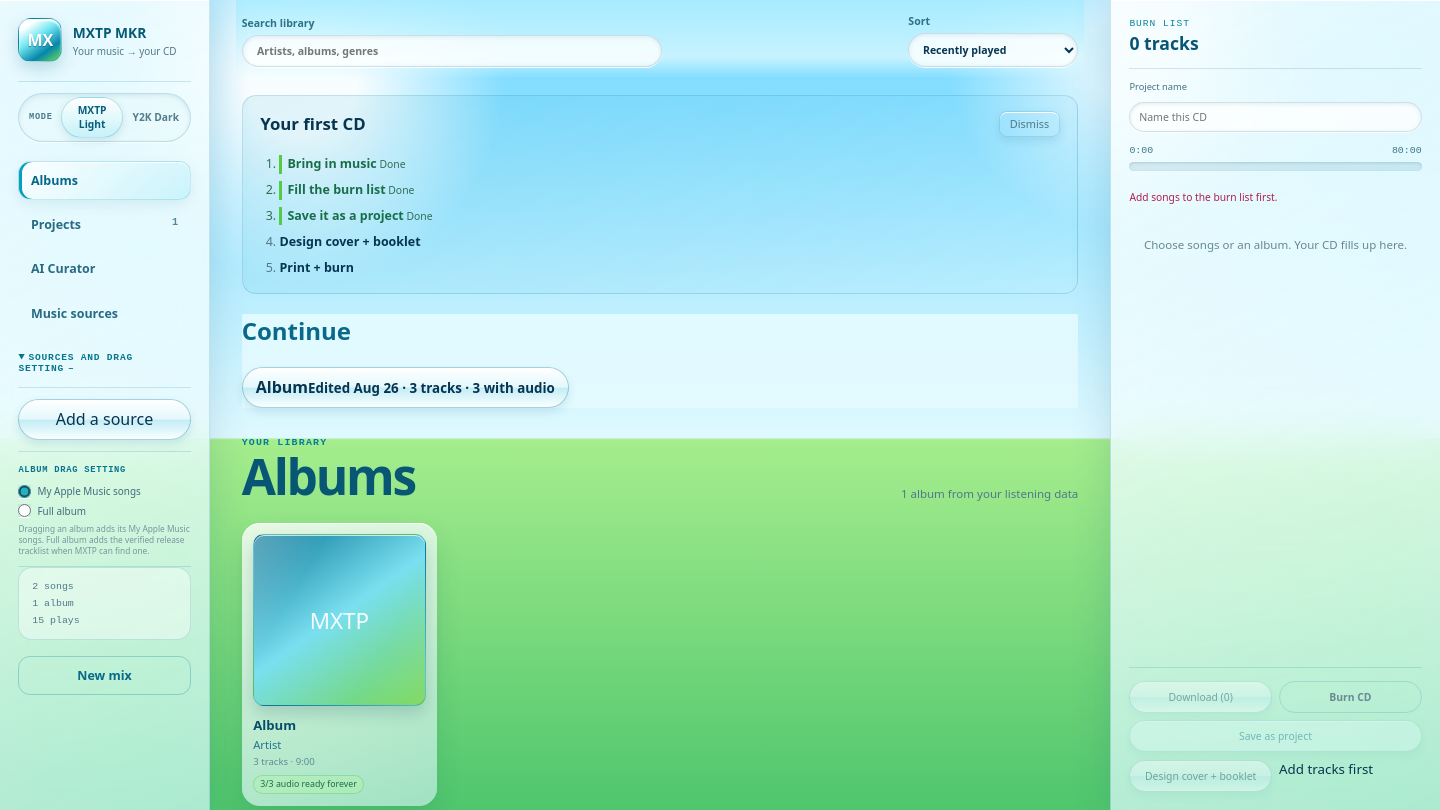
Test: library data safety › marks verified Full album rows ready from the downloaded file positions
Click the button with aria-label "Open Album" at (339, 664), box top-left (242, 522), bottom-right (437, 806)
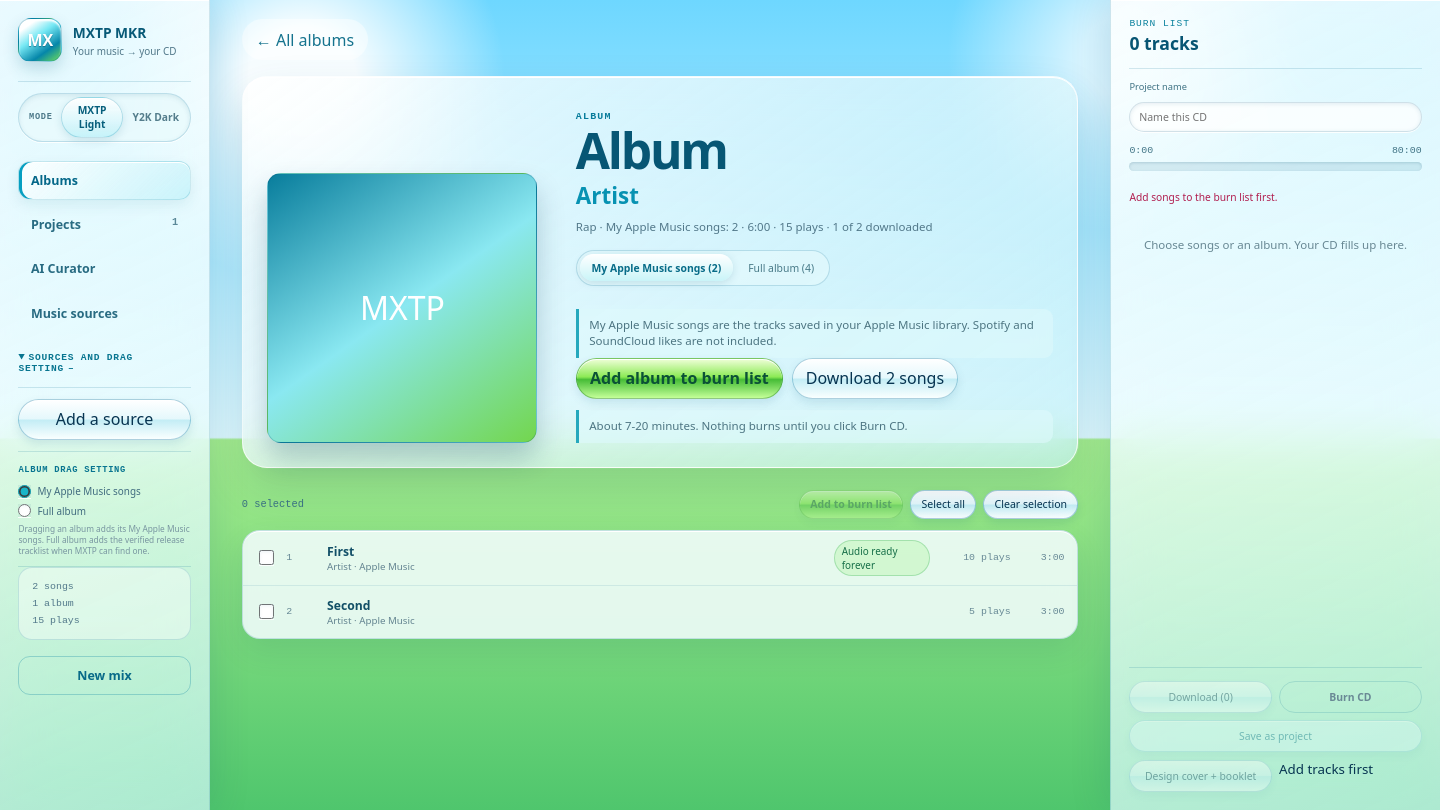
Click the button "Full album (4)" at (781, 268), box top-left (737, 254), bottom-right (826, 281)
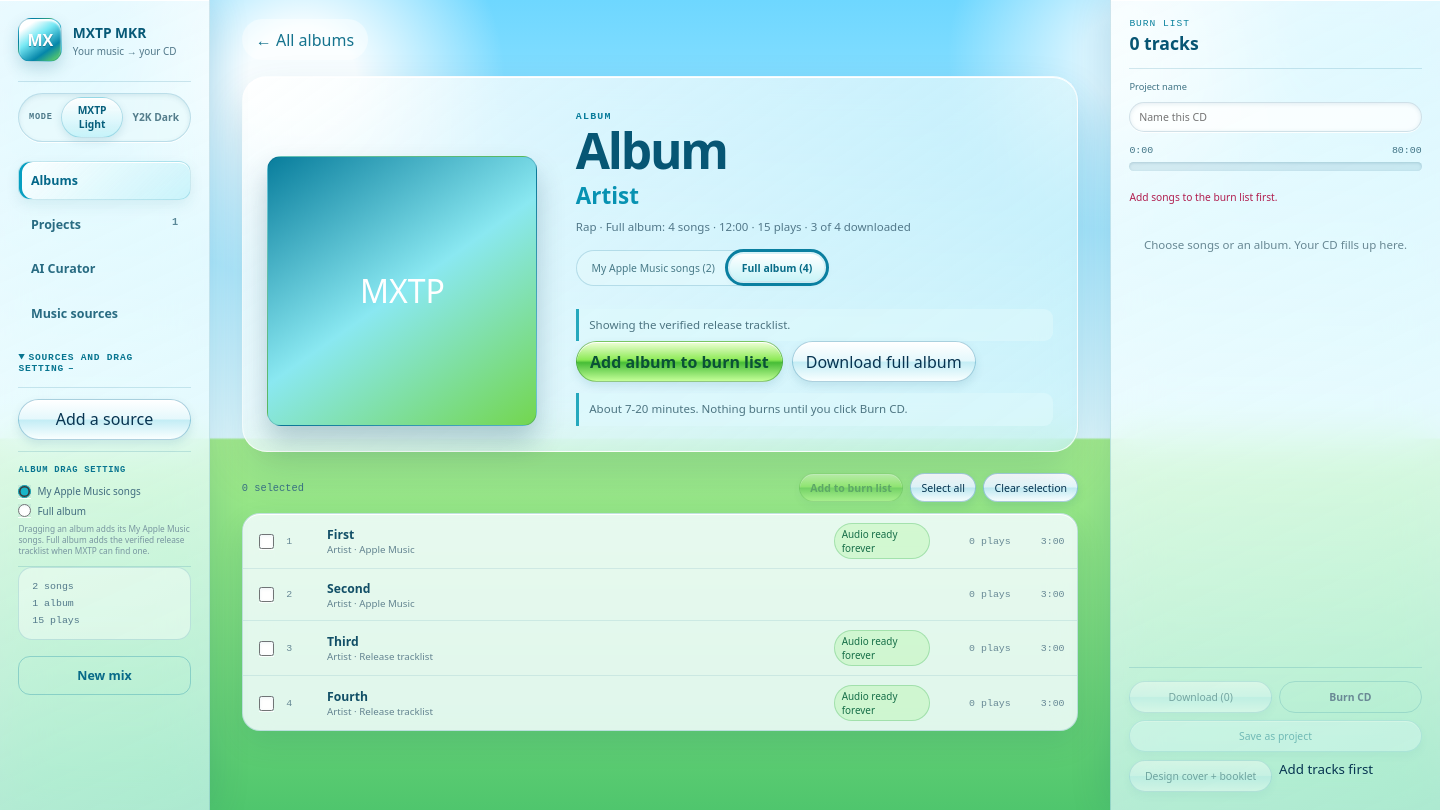
Expected: the text "Showing the verified release tracklist." is shown, top-left (576, 309), bottom-right (1053, 341)
